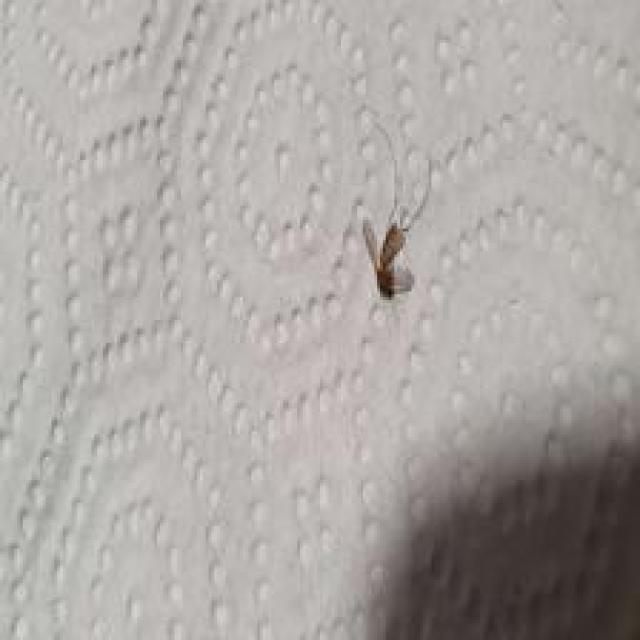Culex: (357, 117, 434, 300)
